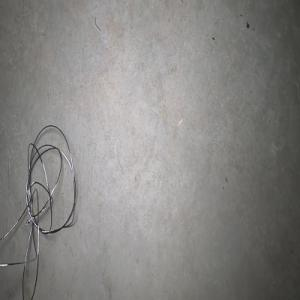Wire: (0, 125, 75, 300)
